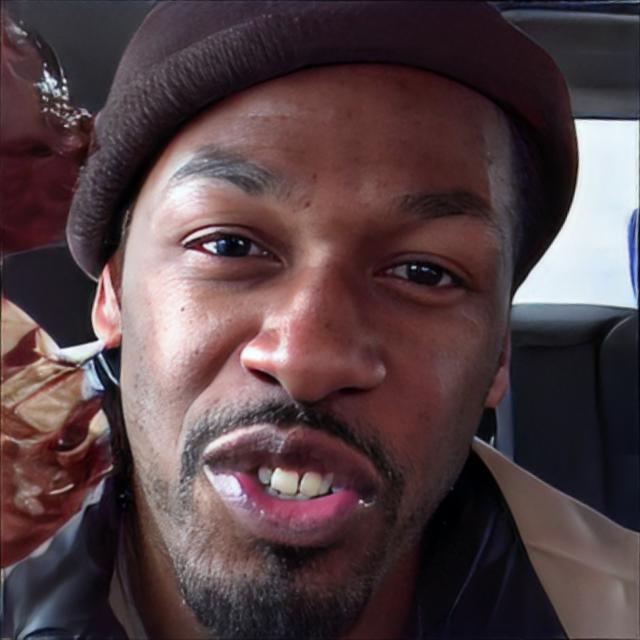disgust: (119, 62, 521, 640)
